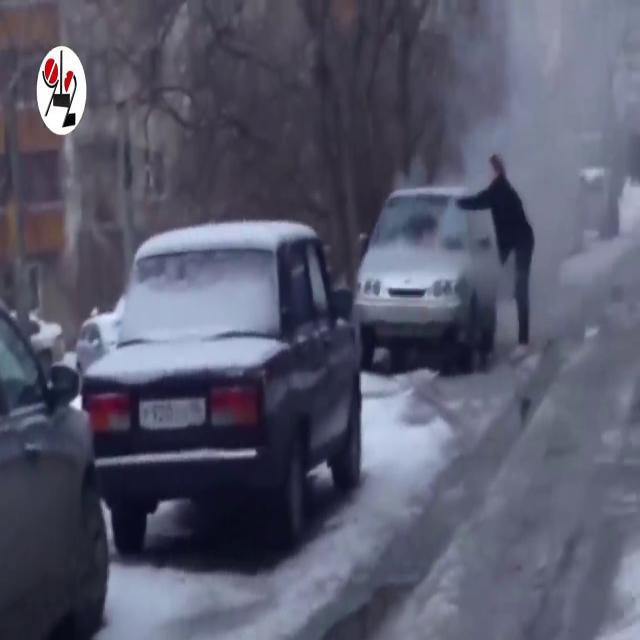Smoke: (430, 0, 640, 342)
